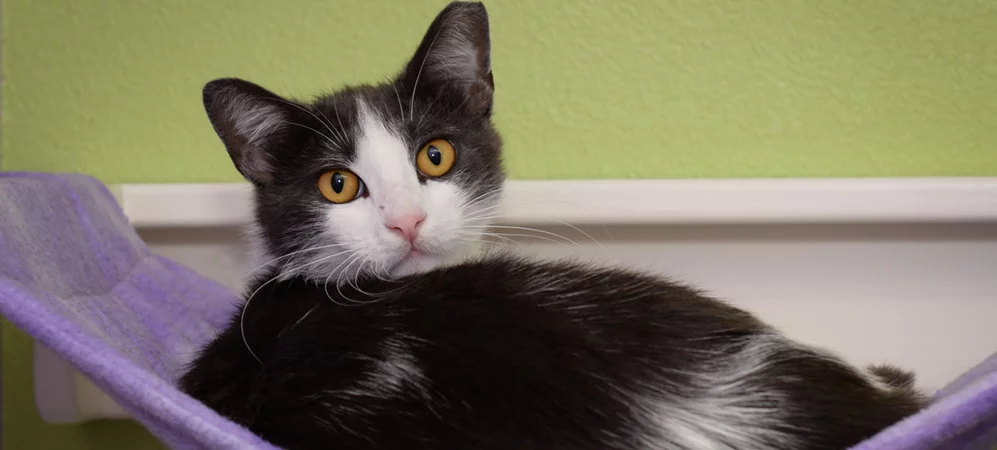cat: (183, 6, 903, 439)
